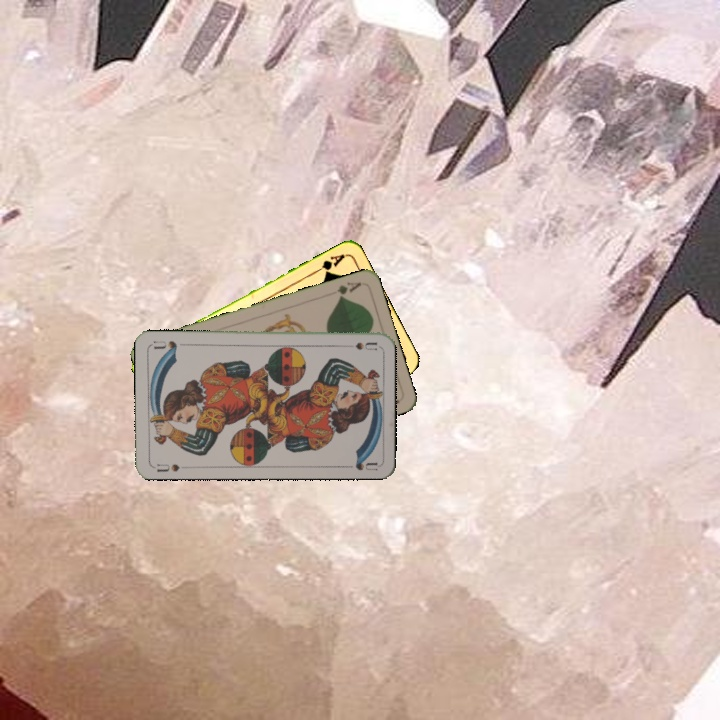GA: (310, 250, 348, 277), (333, 278, 364, 301)
SU: (351, 338, 379, 353), (153, 460, 182, 474)
